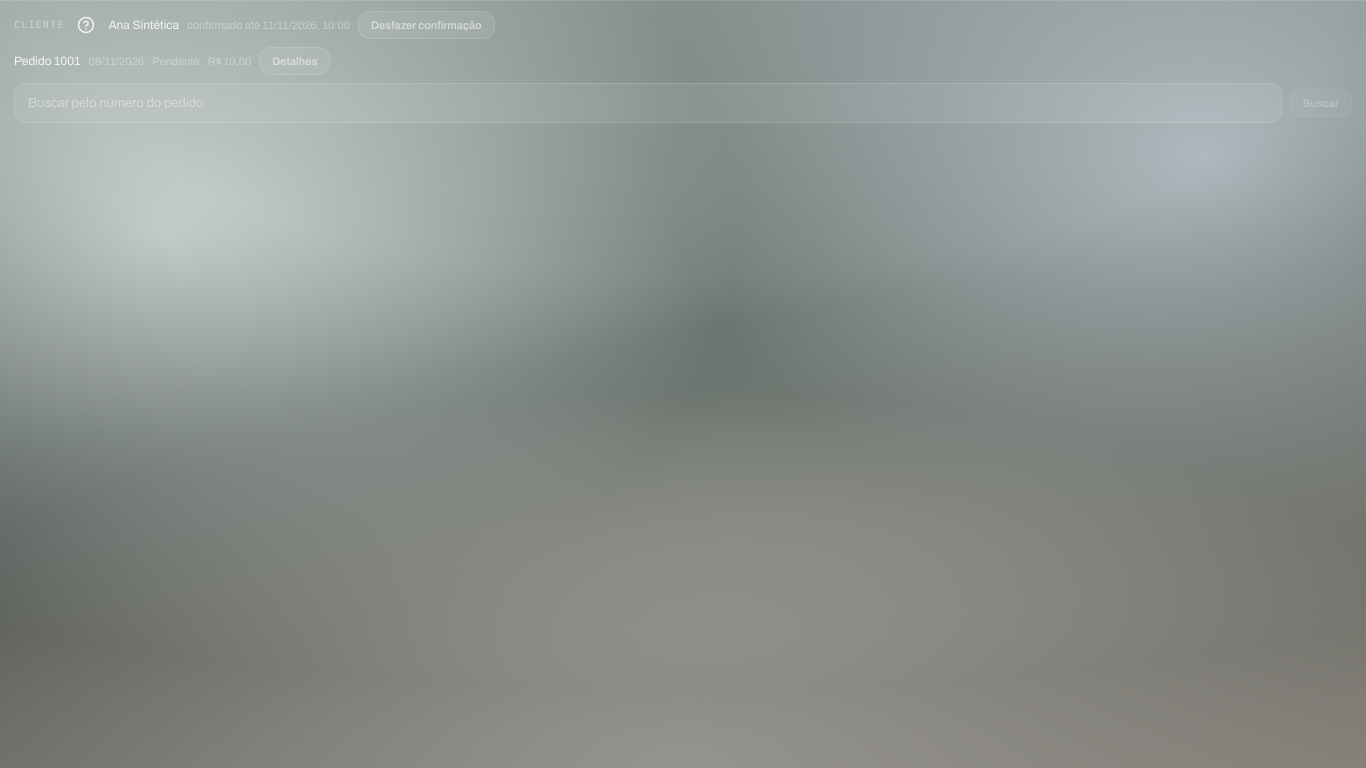
Test: PainelDoCliente — confirmar, consultar e desfazer › busca por número: o corpo leva o número; não encontrado e bloqueio aparecem como texto, sem pedido
In the field labelled "número do pedido": (648, 103) [14,83,1282,123], type "2001"
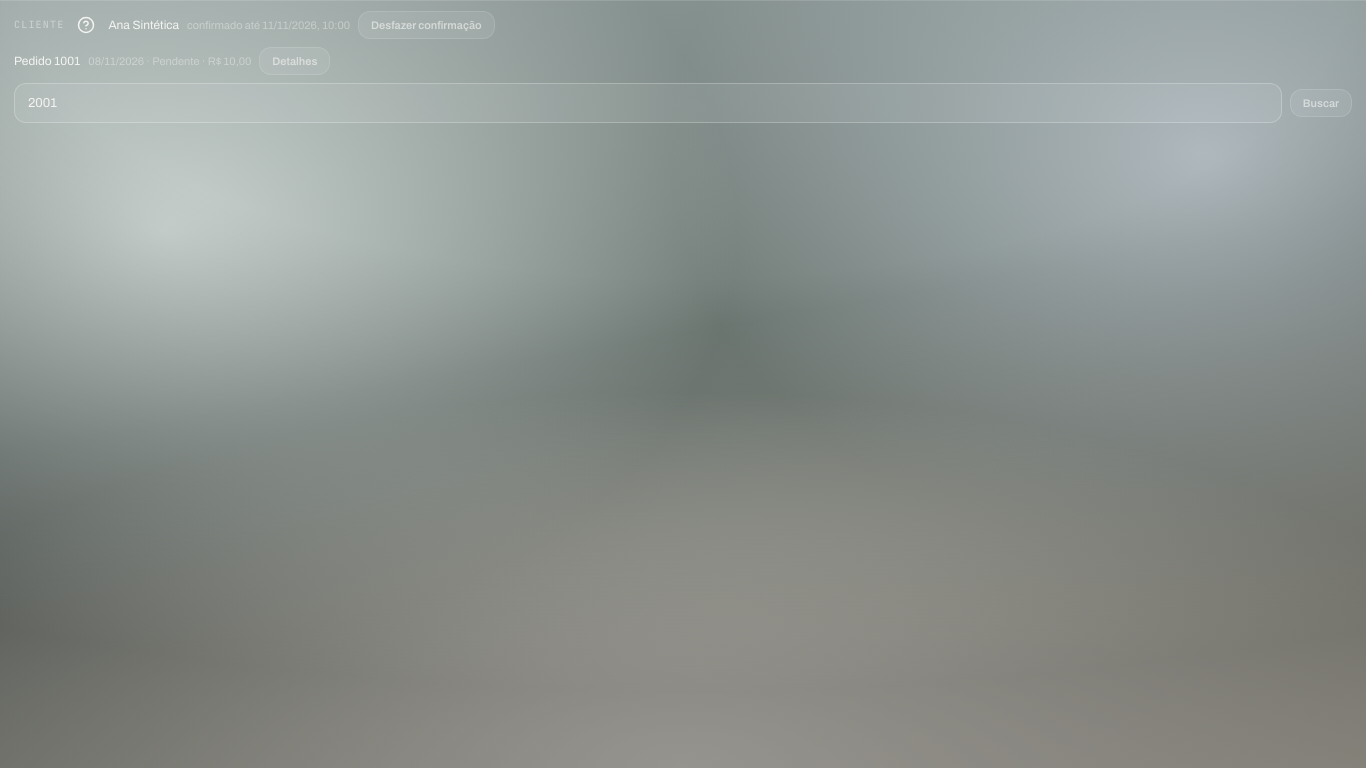
Click the button "Buscar": (1321, 103) [1290,89,1352,117]
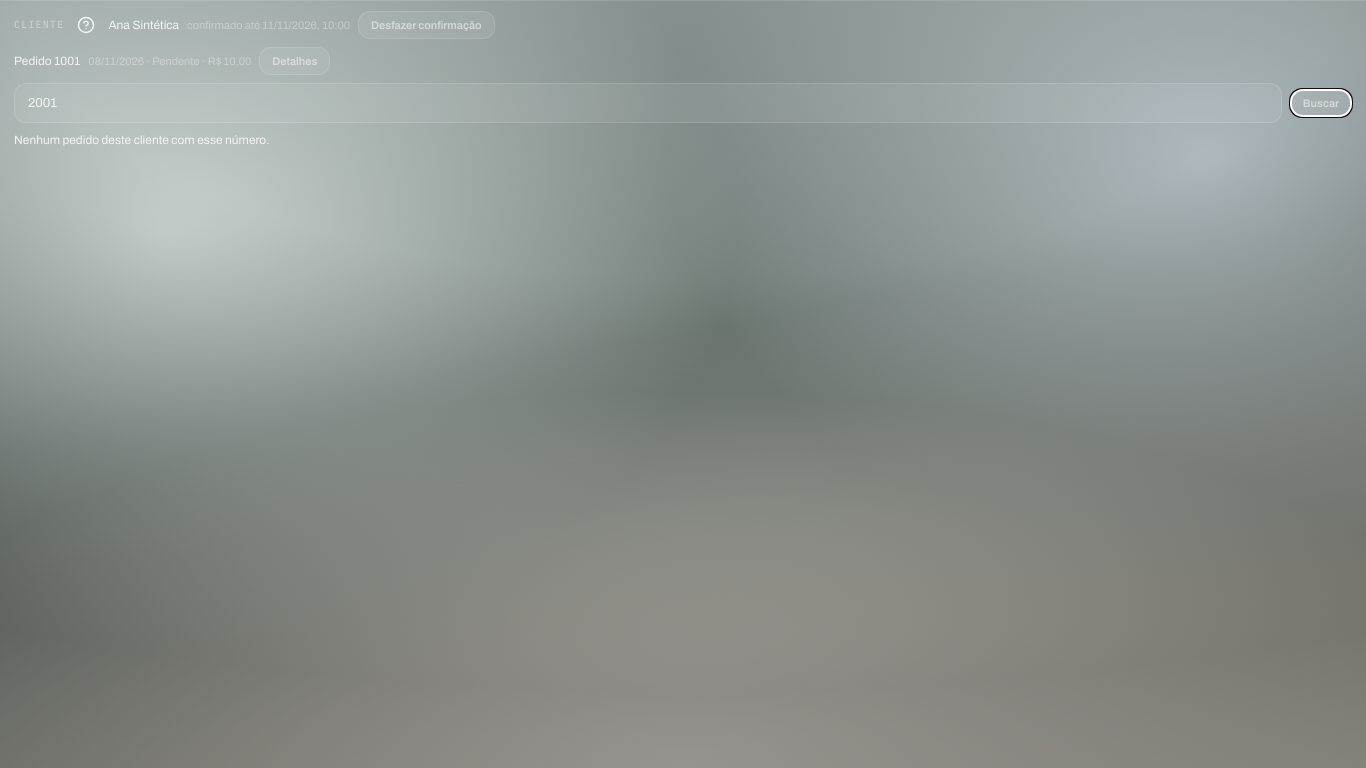
Now the text "Nenhum pedido deste cliente com esse número." is shown, box [14,133,270,147]
Click the button "Buscar": (1321, 103) [1290,89,1352,117]
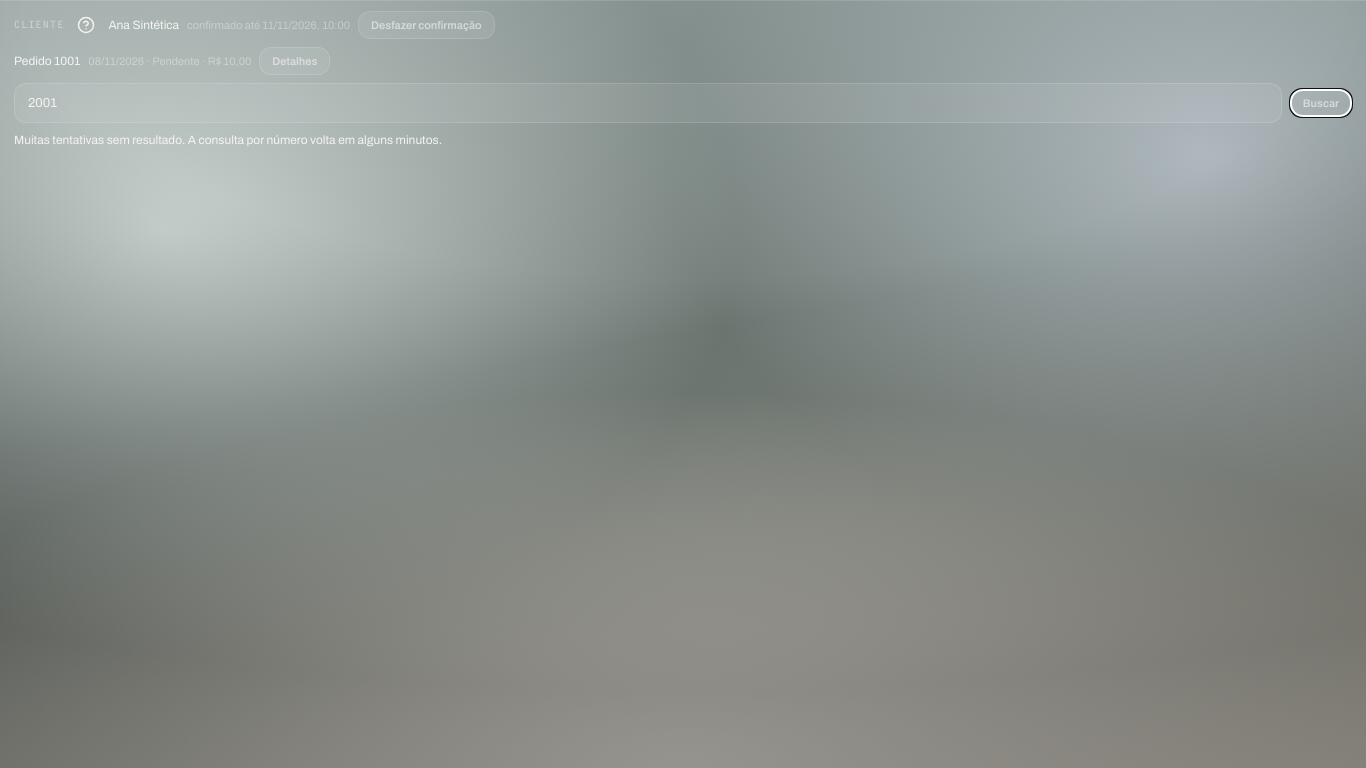
Now the text "Muitas tentativas sem resultado" is shown, box [14,133,442,147]
